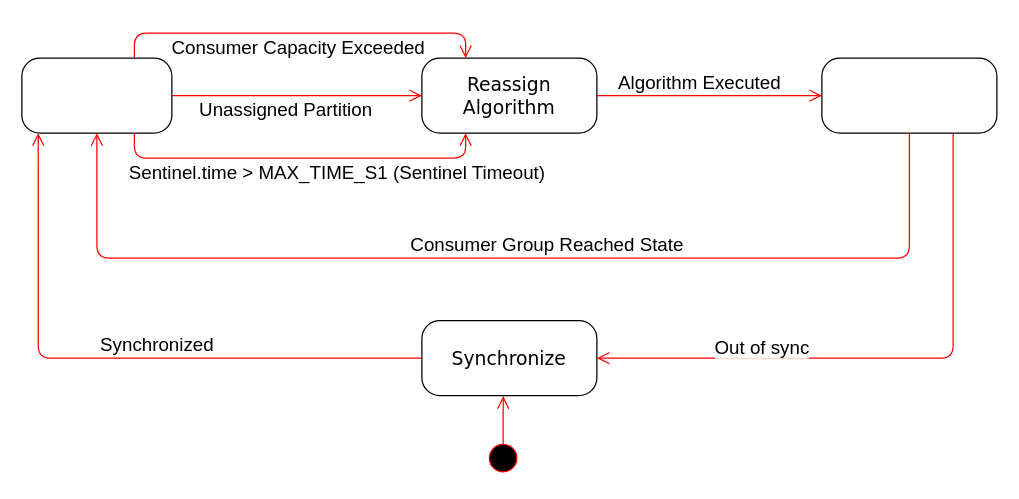
Image size: 1019x499. Some labels were removed from this diagram. The box of each missing label's shape, as (x1, y1, x2, y2) in pixels:
Group Management: (821, 57, 997, 133)
Sentinel: (21, 57, 172, 133)
